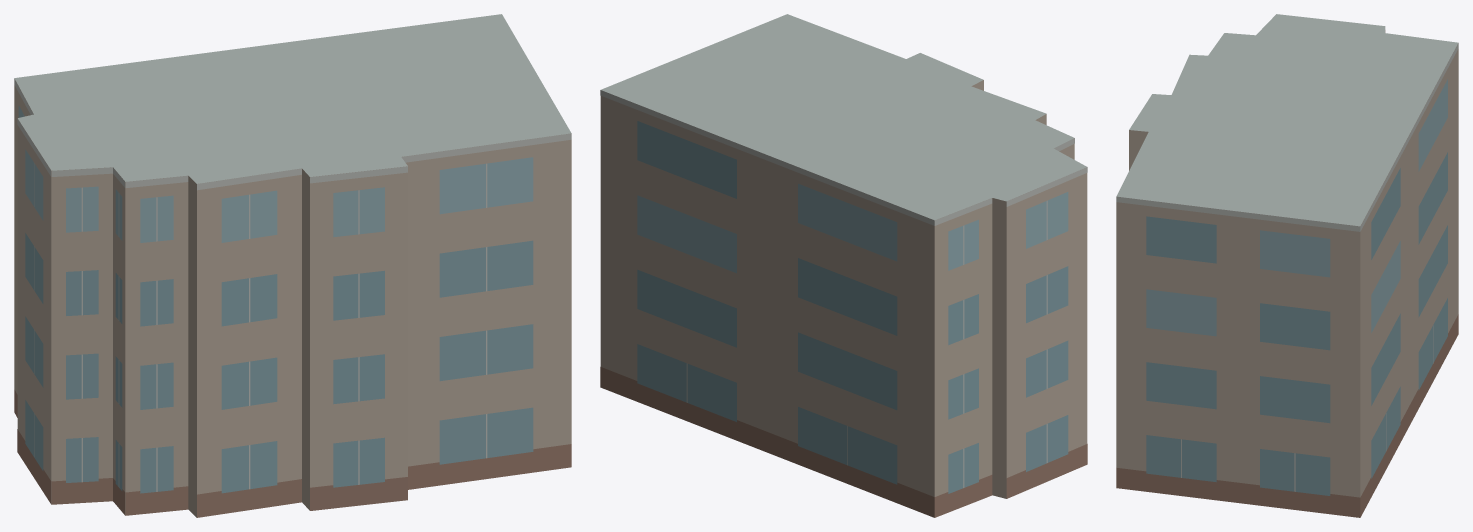
File: survey-upis-32756179.glb
3 views of the same model, side by side, from view 1: azimuth 30°, elevation 25°; view 2: azimuth 150°, elevation 25°; view 3: azimuth 270°, elevation 25° (orthographic). The views are drawn at different scales.
Parts seen in each view (by area): view 1: survey-upis-32756179.tmp; view 2: survey-upis-32756179.tmp; view 3: survey-upis-32756179.tmp.
Boxes of the visible parts, x1,y1,x2,y2 form: survey-upis-32756179.tmp: (14,14,571,517); survey-upis-32756179.tmp: (600,14,1087,517); survey-upis-32756179.tmp: (1116,14,1458,517).
Bounding box in the file's own units: 20.01 × 12.8 × 13.63.
